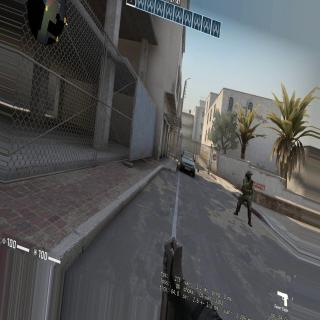CT-Body: (238, 168, 258, 222)
CT-Head: (245, 170, 253, 178)
